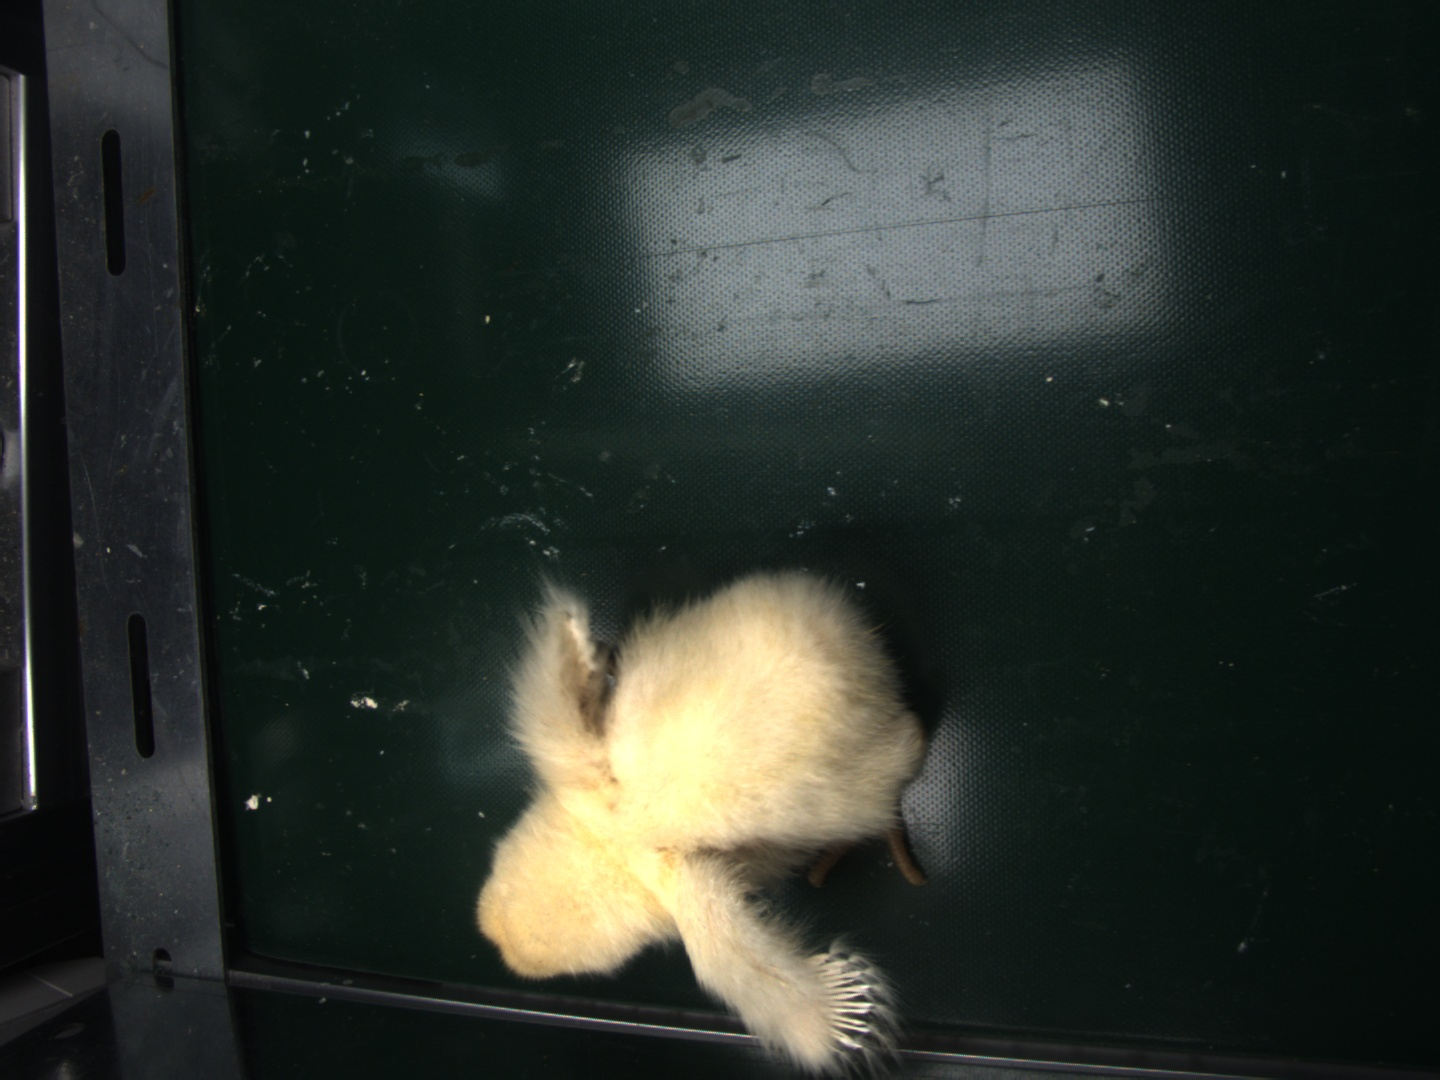male: (814, 961, 879, 1051)
